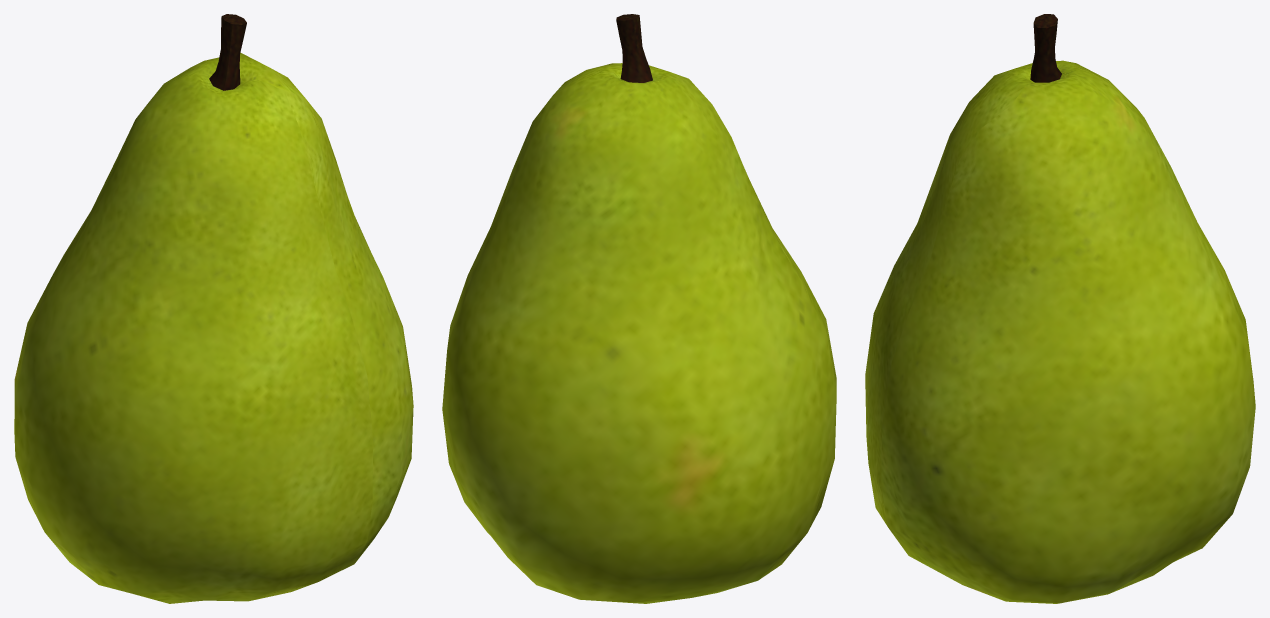
Rendered from 002-Pear.FBX.
3 renders of one model, left to right at view 1: azimuth 30°, elevation 25°; view 2: azimuth 150°, elevation 25°; view 3: azimuth 270°, elevation 25°, orthographic.
Visible parts, largest first — view 1: 002-Pear; view 2: 002-Pear; view 3: 002-Pear.
Boxes of the visible parts, left/top/right/bottom form: 002-Pear: left=14, top=14, right=413, bottom=603; 002-Pear: left=442, top=14, right=836, bottom=603; 002-Pear: left=865, top=14, right=1255, bottom=603.
Bounding box in the file's own units: 5.8 × 9.14 × 5.87.
